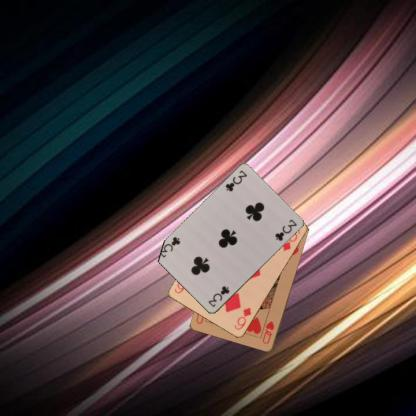3c: (223, 168, 248, 193), (206, 283, 230, 309)
6d: (232, 305, 252, 332)
Qh: (260, 318, 276, 346)
